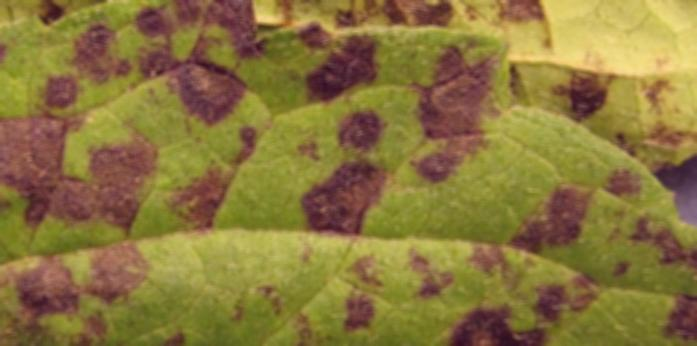Tomato Septoria leaf spot: (0, 0, 697, 346), (0, 0, 697, 184)
